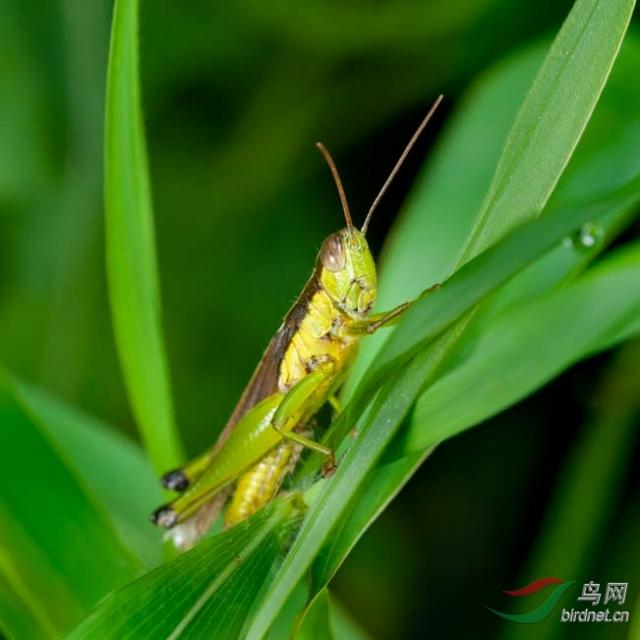ZhaMeng: (141, 94, 468, 562)
